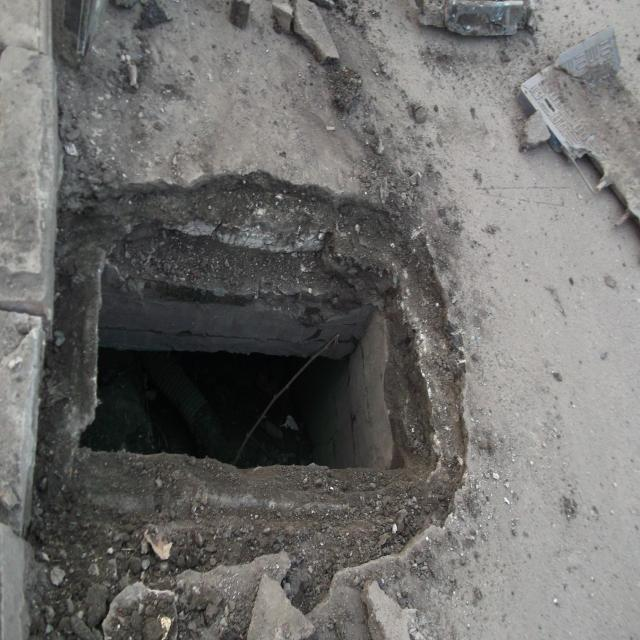Uncovered: (75, 259, 403, 474)
